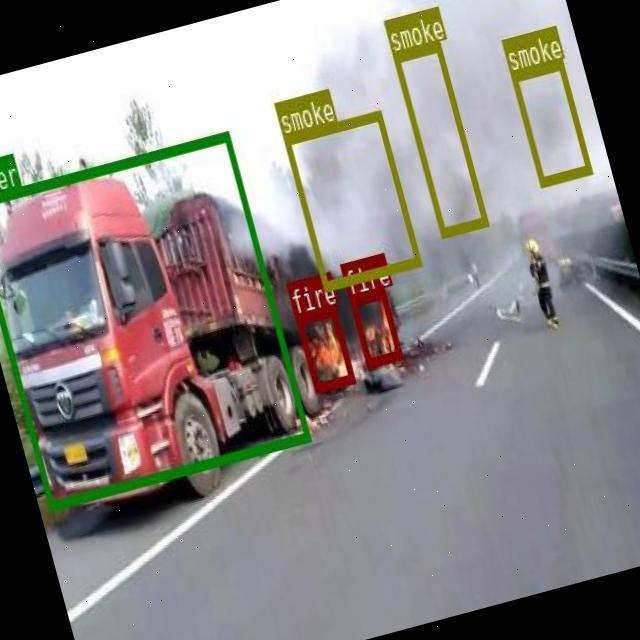fire: (294, 305, 354, 390), (348, 286, 402, 366)
smoke: (282, 108, 419, 289), (391, 39, 488, 236), (510, 59, 590, 184)
